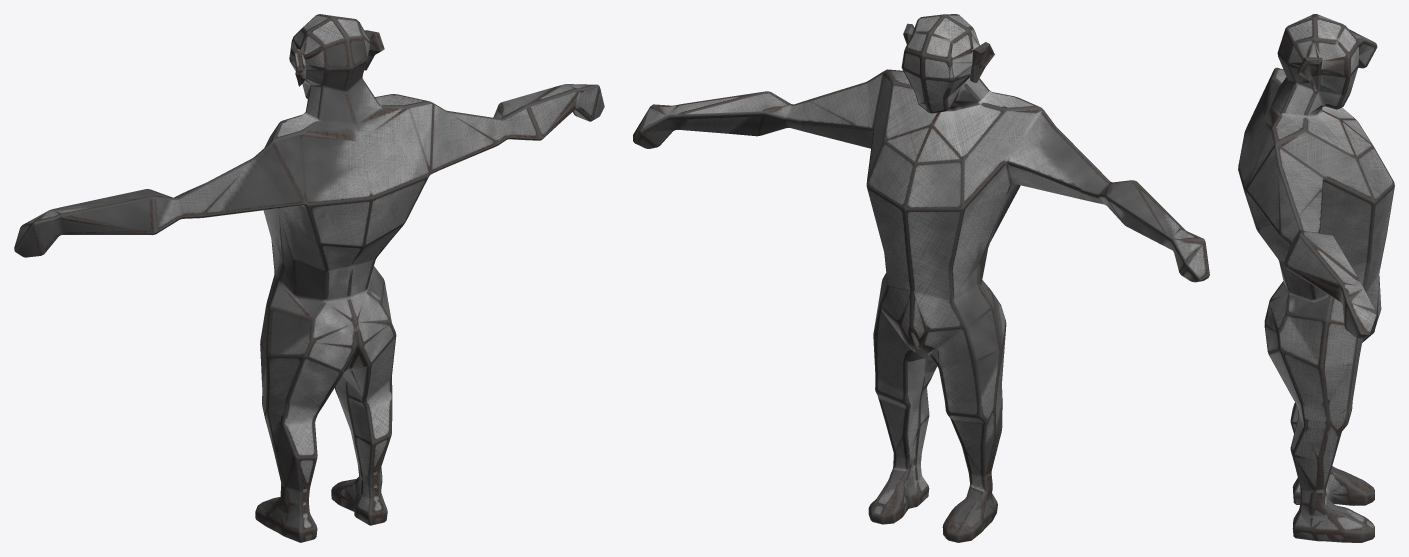
Rendered from ape.obj.
3 renders of one model, left to right at view 1: azimuth 30°, elevation 25°; view 2: azimuth 150°, elevation 25°; view 3: azimuth 270°, elevation 25°, orthographic. The views are drawn at different scales.
Visible parts, largest first — view 1: Object_7; view 2: Object_7; view 3: Object_7.
Boxes of the visible parts, <box> form: Object_7: <box>14,14,604,542</box>; Object_7: <box>633,14,1209,542</box>; Object_7: <box>1238,14,1394,542</box>.
Bounding box in the file's own units: 238 × 197 × 55.75.
